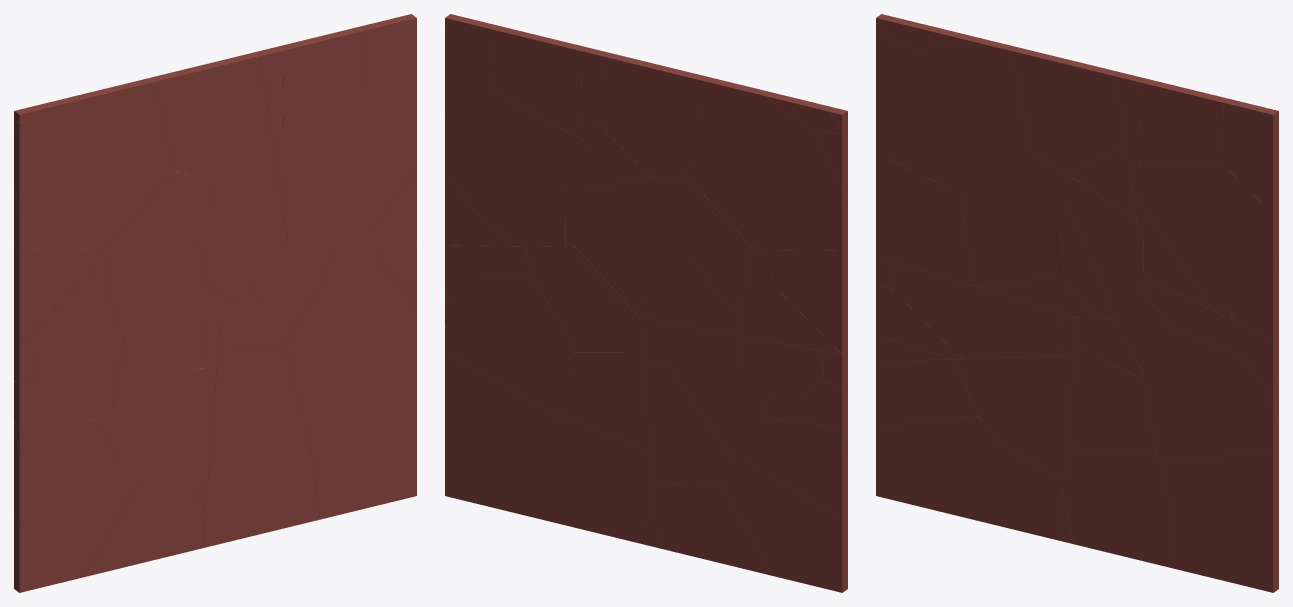
The model's file is wall06,08_Ax.fbx.
3 renders of one model, left to right at view 1: azimuth 30°, elevation 25°; view 2: azimuth 150°, elevation 25°; view 3: azimuth 330°, elevation 25°, orthographic.
Visible parts, largest first — view 1: wall08_A.001_cell.001_cell.160, wall08_A.001_cell.001_cell.103, wall08_A.001_cell.001_cell, wall08_A.001_cell.001_cell.041, wall08_A.001_cell.001_cell.052, wall08_A.001_cell.001_cell.162, wall08_A.001_cell.001_cell.154, wall08_A.001_cell.001_cell.002, wall08_A.001_cell.001_cell.027, wall08_A.001_cell.001_cell.059, wall08_A.001_cell.001_cell.121, wall08_A.001_cell.001_cell.012 (+26 smaller); view 2: wall08_A.001_cell.001_cell.160, wall08_A.001_cell.001_cell, wall08_A.001_cell.001_cell.103, wall08_A.001_cell.001_cell.041, wall08_A.001_cell.001_cell.162, wall08_A.001_cell.001_cell.052, wall08_A.001_cell.001_cell.002, wall08_A.001_cell.001_cell.121, wall08_A.001_cell.001_cell.005, wall08_A.001_cell.001_cell.012, wall08_A.001_cell.001_cell.060, wall08_A.001_cell.001_cell.018 (+30 smaller); view 3: wall08_A.001_cell.001_cell.160, wall08_A.001_cell.001_cell, wall08_A.001_cell.001_cell.103, wall08_A.001_cell.001_cell.041, wall08_A.001_cell.001_cell.052, wall08_A.001_cell.001_cell.162, wall08_A.001_cell.001_cell.154, wall08_A.001_cell.001_cell.002, wall08_A.001_cell.001_cell.027, wall08_A.001_cell.001_cell.059, wall08_A.001_cell.001_cell.121, wall08_A.001_cell.001_cell.004 (+25 smaller).
Part boxes in pixels (left/top/right/bottom): wall08_A.001_cell.001_cell.160: left=14, top=77, right=173, bottom=249; wall08_A.001_cell.001_cell.103: left=273, top=91, right=416, bottom=242; wall08_A.001_cell.001_cell: left=307, top=354, right=416, bottom=519; wall08_A.001_cell.001_cell.041: left=286, top=274, right=416, bottom=417; wall08_A.001_cell.001_cell.052: left=206, top=415, right=319, bottom=544; wall08_A.001_cell.001_cell.162: left=151, top=52, right=269, bottom=177; wall08_A.001_cell.001_cell.154: left=103, top=172, right=210, bottom=333; wall08_A.001_cell.001_cell.002: left=14, top=463, right=139, bottom=592; wall08_A.001_cell.001_cell.027: left=84, top=480, right=205, bottom=576; wall08_A.001_cell.001_cell.059: left=210, top=346, right=299, bottom=450; wall08_A.001_cell.001_cell.121: left=275, top=25, right=366, bottom=135; wall08_A.001_cell.001_cell.012: left=14, top=418, right=121, bottom=523; wall08_A.001_cell.001_cell.160: left=687, top=78, right=847, bottom=250; wall08_A.001_cell.001_cell: left=445, top=351, right=557, bottom=519; wall08_A.001_cell.001_cell.103: left=445, top=92, right=589, bottom=239; wall08_A.001_cell.001_cell.041: left=445, top=275, right=572, bottom=415; wall08_A.001_cell.001_cell.162: left=594, top=52, right=711, bottom=179; wall08_A.001_cell.001_cell.052: left=544, top=415, right=652, bottom=542; wall08_A.001_cell.001_cell.002: left=719, top=459, right=847, bottom=592; wall08_A.001_cell.001_cell.121: left=492, top=26, right=583, bottom=139; wall08_A.001_cell.001_cell.005: left=643, top=362, right=734, bottom=484; wall08_A.001_cell.001_cell.012: left=743, top=419, right=847, bottom=519; wall08_A.001_cell.001_cell.060: left=560, top=352, right=650, bottom=450; wall08_A.001_cell.001_cell.018: left=666, top=336, right=770, bottom=463; wall08_A.001_cell.001_cell.160: left=876, top=33, right=1029, bottom=193; wall08_A.001_cell.001_cell: left=1163, top=444, right=1278, bottom=592; wall08_A.001_cell.001_cell.103: left=1130, top=162, right=1278, bottom=310; wall08_A.001_cell.001_cell.041: left=1143, top=332, right=1278, bottom=461; wall08_A.001_cell.001_cell.052: left=1063, top=447, right=1176, bottom=569; wall08_A.001_cell.001_cell.162: left=1012, top=47, right=1125, bottom=173; wall08_A.001_cell.001_cell.154: left=960, top=150, right=1067, bottom=284; wall08_A.001_cell.001_cell.002: left=876, top=416, right=996, bottom=511; wall08_A.001_cell.001_cell.027: left=940, top=442, right=1061, bottom=540; wall08_A.001_cell.001_cell.059: left=1067, top=346, right=1156, bottom=455; wall08_A.001_cell.001_cell.121: left=1139, top=77, right=1230, bottom=167; wall08_A.001_cell.001_cell.004: left=986, top=359, right=1073, bottom=477.
Size of the model in its own units: 854 by 981 by 20.23.
